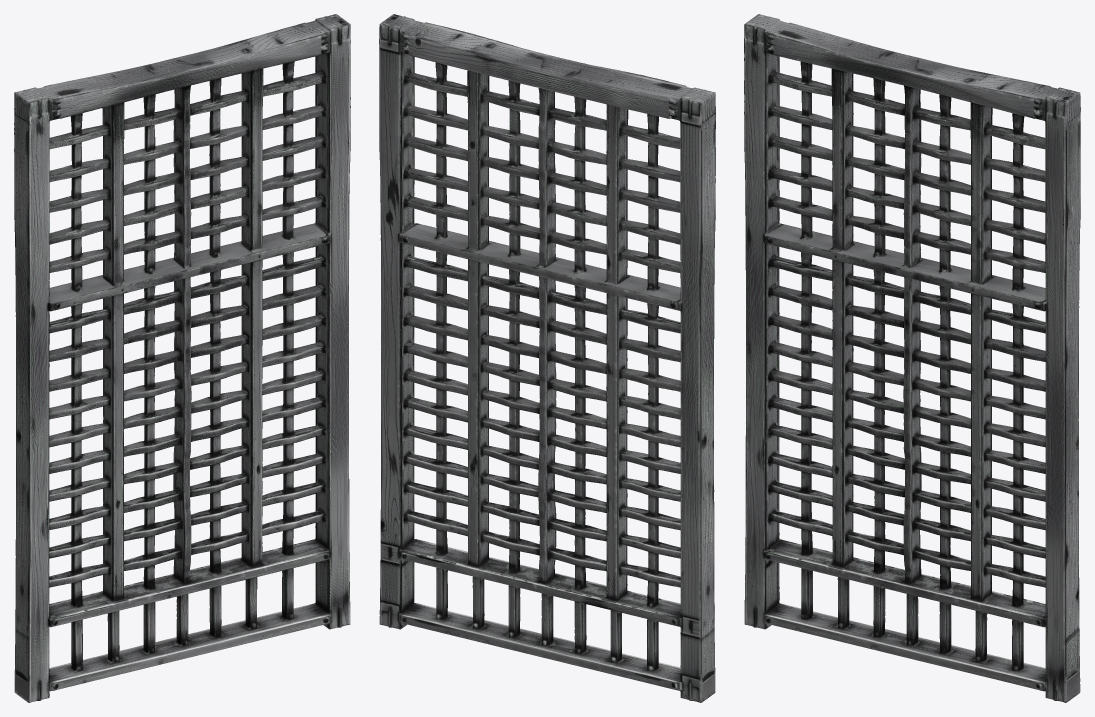
File: wall.glb
3 renders of one model, left to right at view 1: azimuth 30°, elevation 25°; view 2: azimuth 150°, elevation 25°; view 3: azimuth 330°, elevation 25°, orthographic.
Size of the model in its own units: 1.07 by 1.9 by 0.1102.
Materials: 1 (1 with a texture image).
